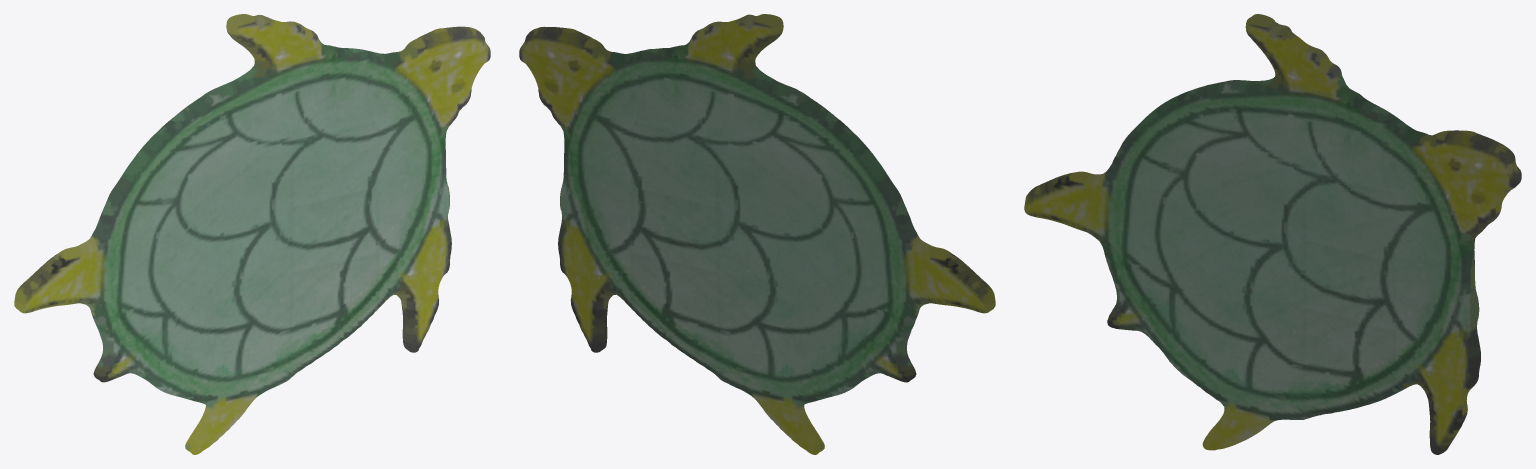
Rendered from turtle_l.gltf.
3 views of the same model, side by side, from view 1: azimuth 30°, elevation 25°; view 2: azimuth 150°, elevation 25°; view 3: azimuth 330°, elevation 25° (orthographic). The views are drawn at different scales.
Bounding box in the file's own units: 0.3035 × 0.2615 × 0.0101.
